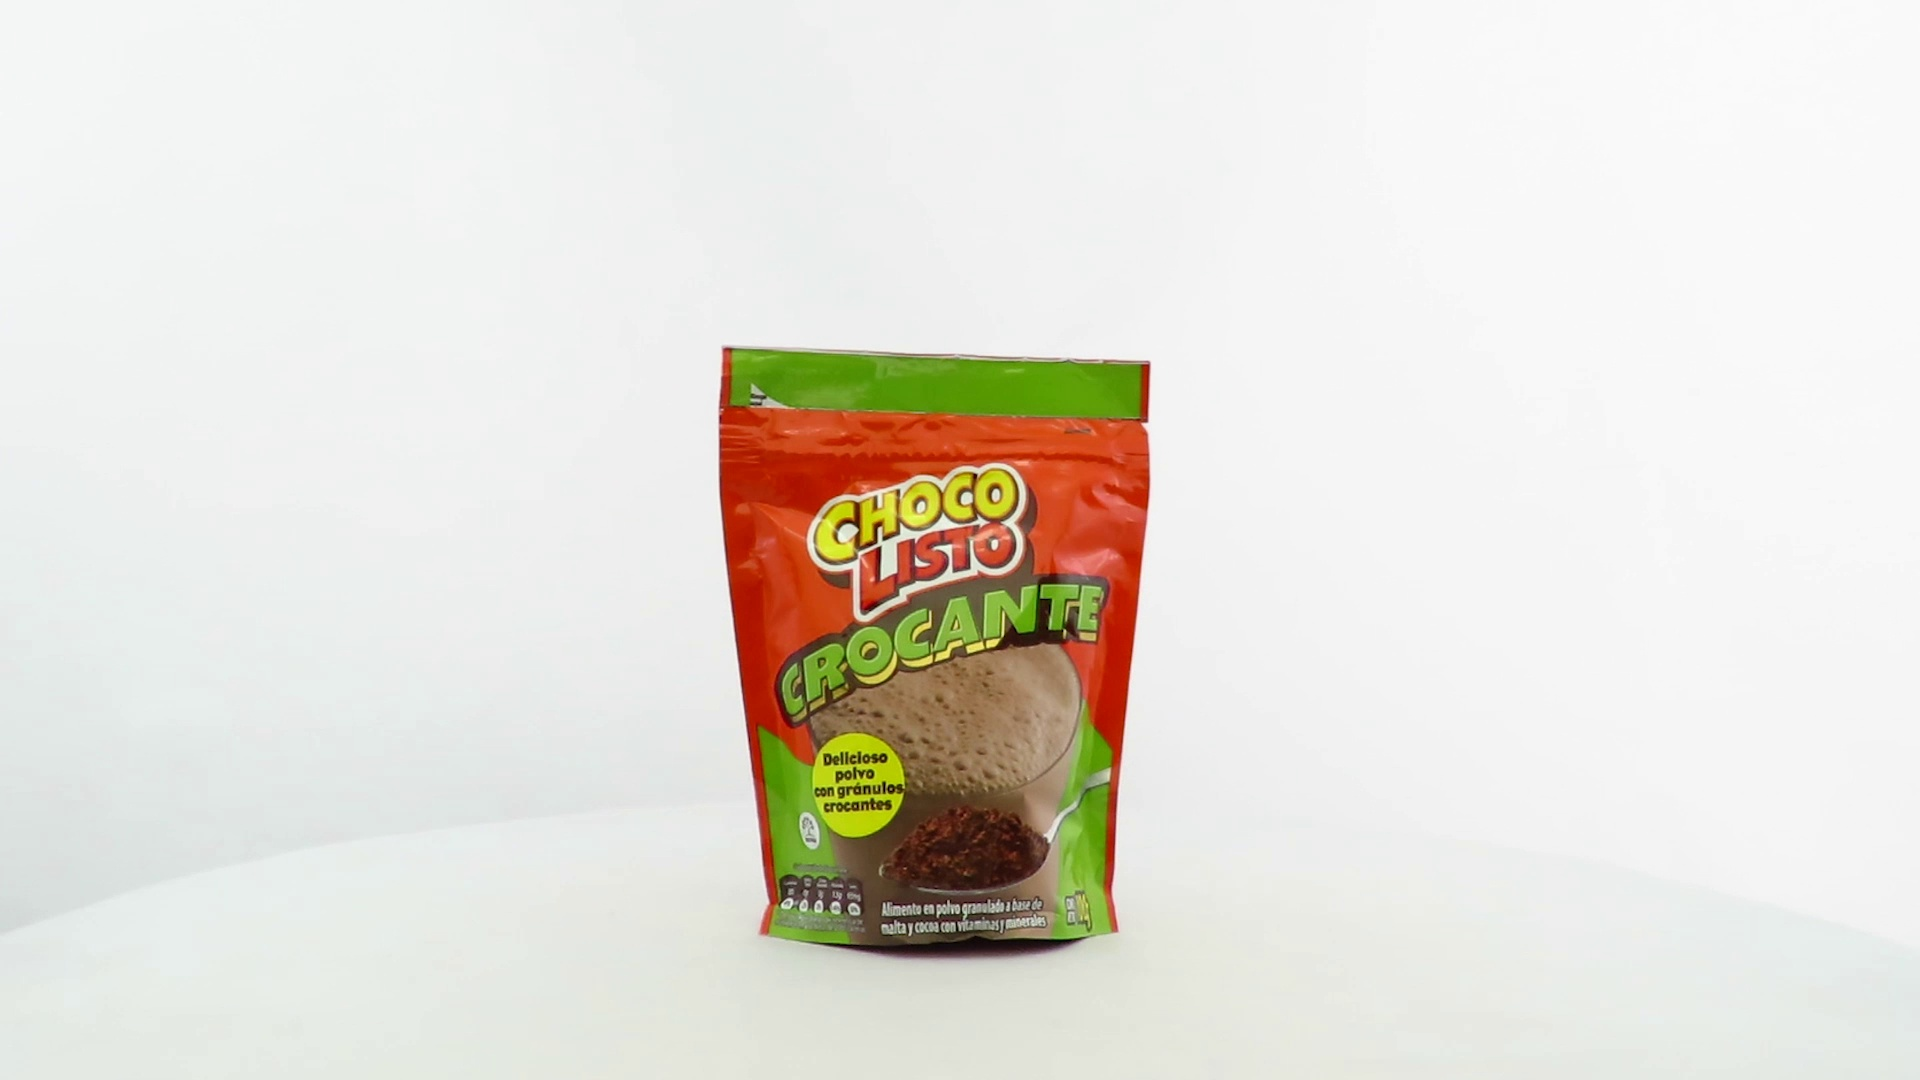COL0170102DYP10000: (713, 340, 1156, 961)
